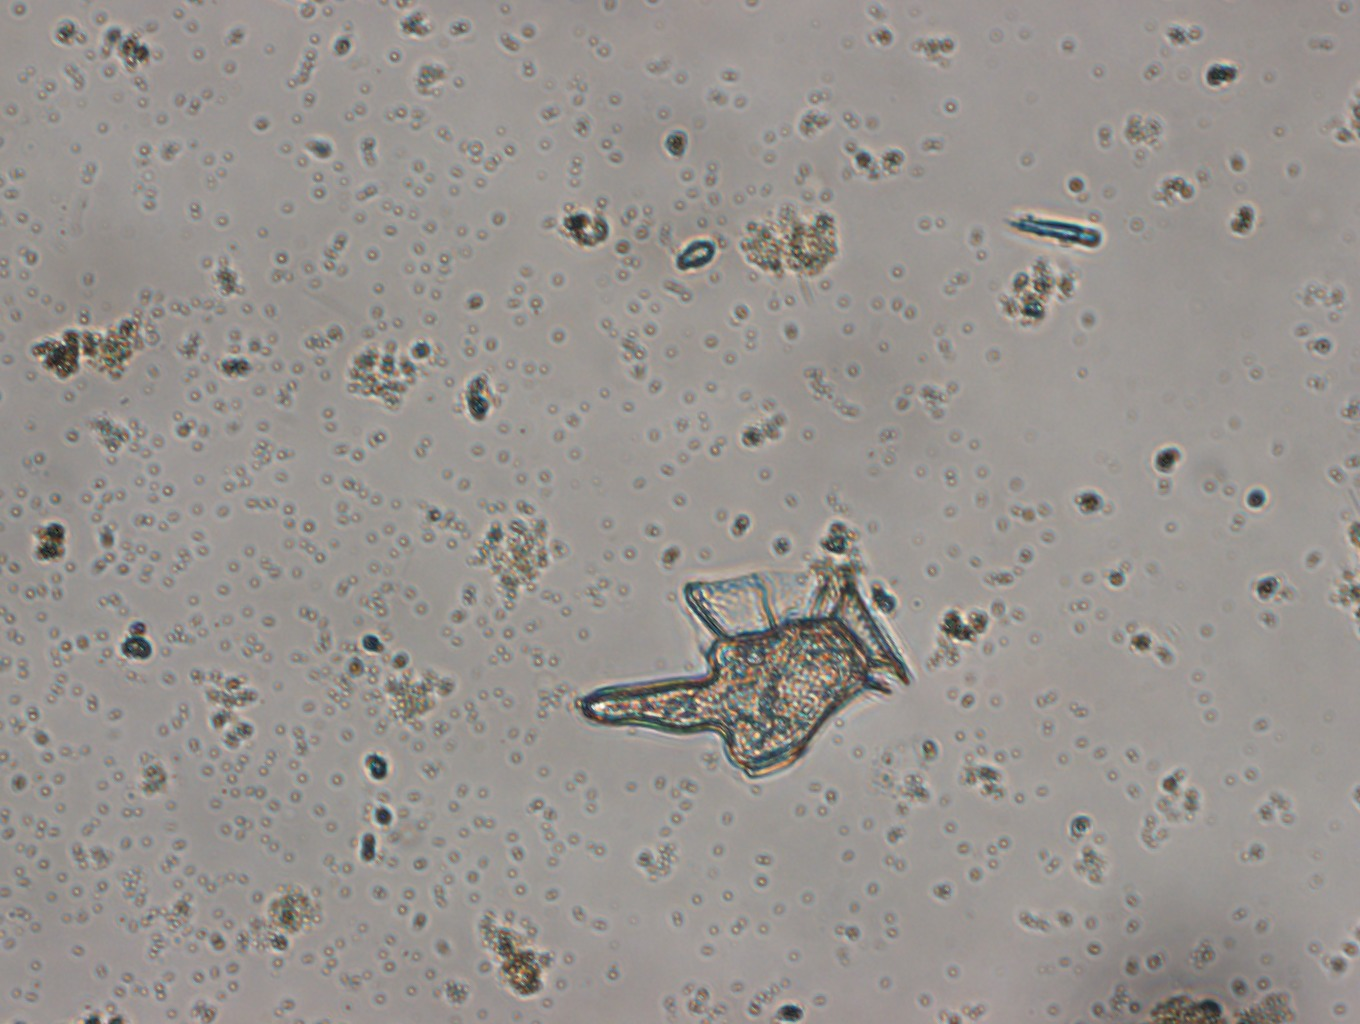dinophysis caudata: (579, 569, 913, 780)
